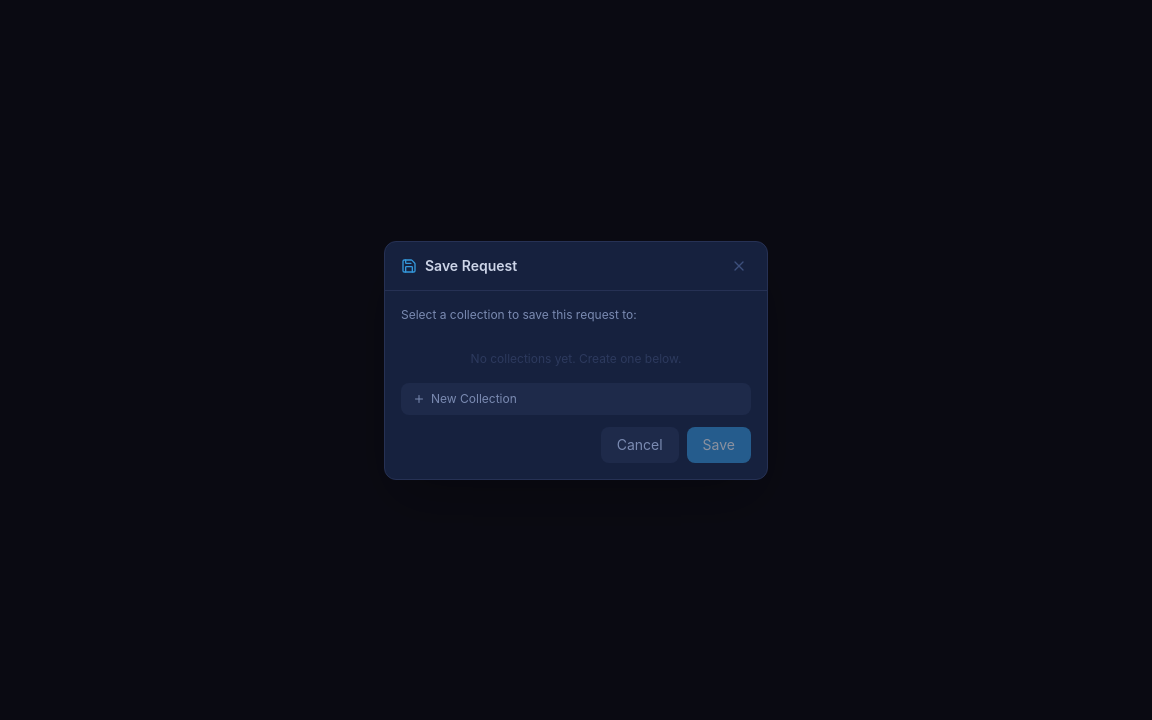
Test: in-app text prompt flows › creates and selects a collection from the save-request modal
Step 1. Click the button "New Collection" → (474, 398), box [401,382,751,414]
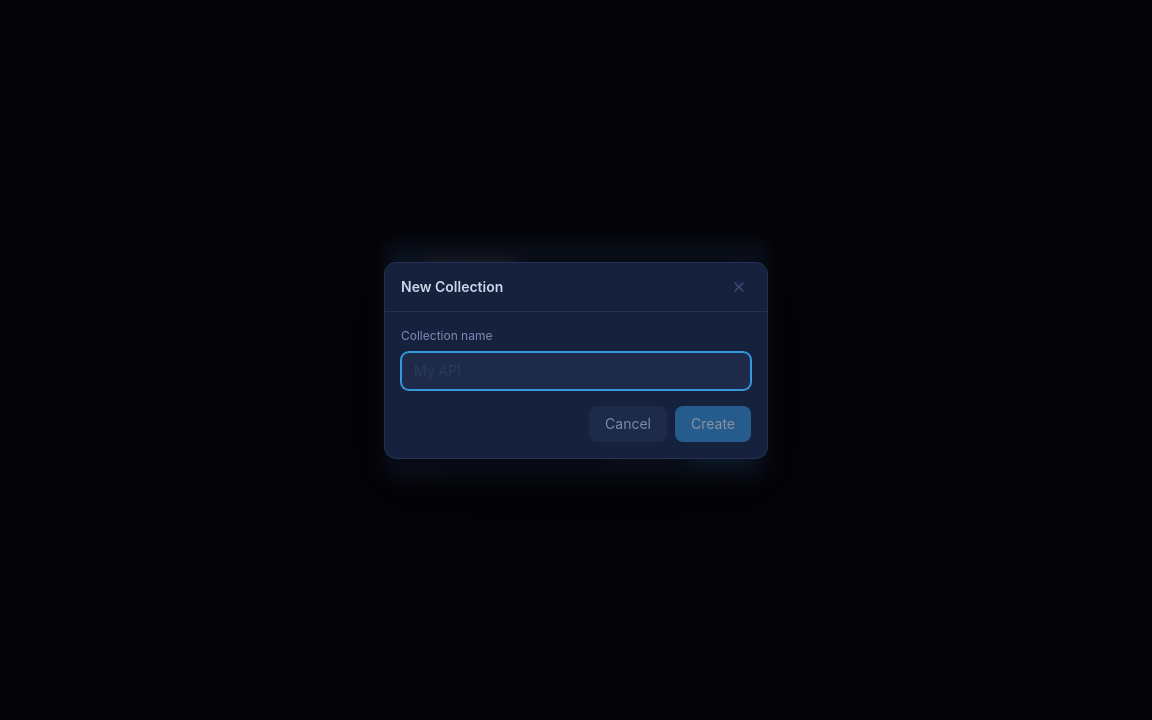
Step 2. Type "Saved requests" into the field labelled "Collection name" → (576, 370), box [401,352,751,390]
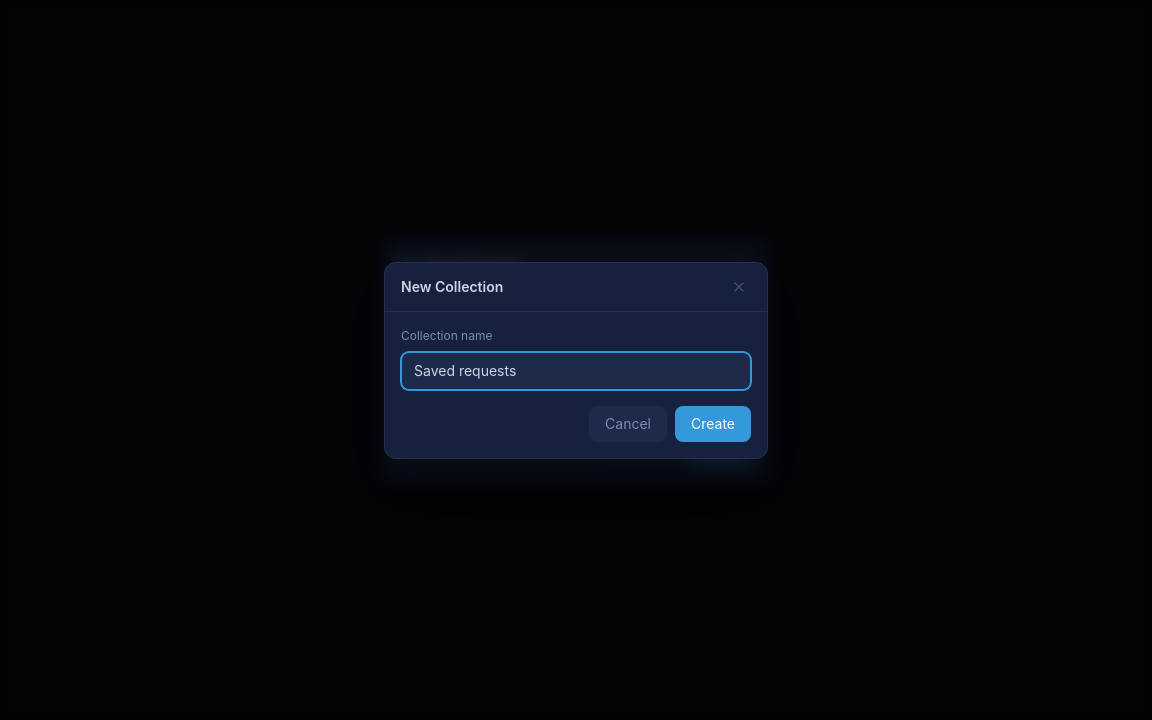
Step 3. Click the button "Create" → (713, 424), box [675,406,751,442]
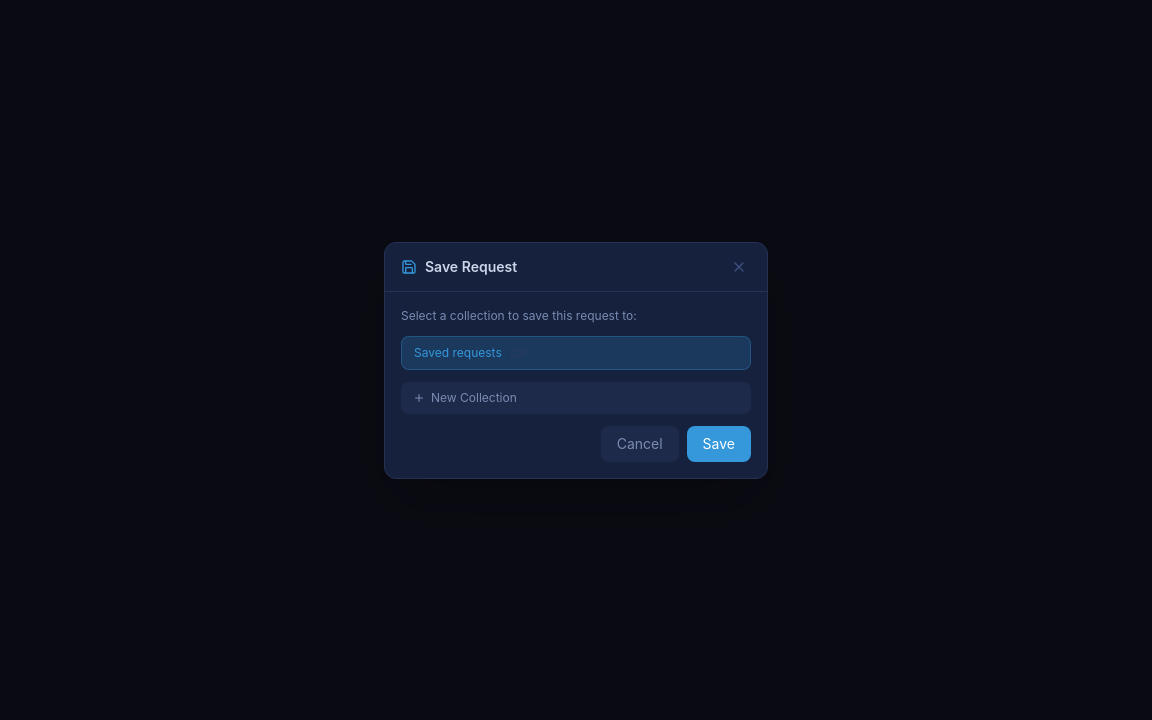
Expected: the button "Save" is enabled, [687,426,751,462]
